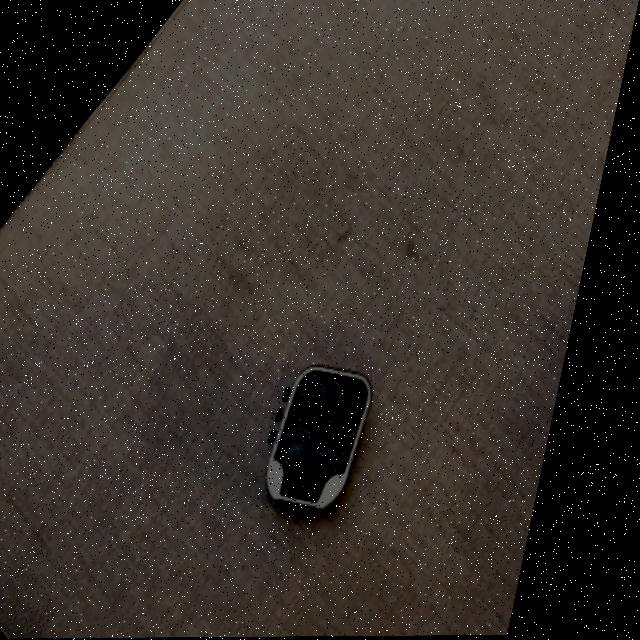adapter: (274, 363, 394, 513)
